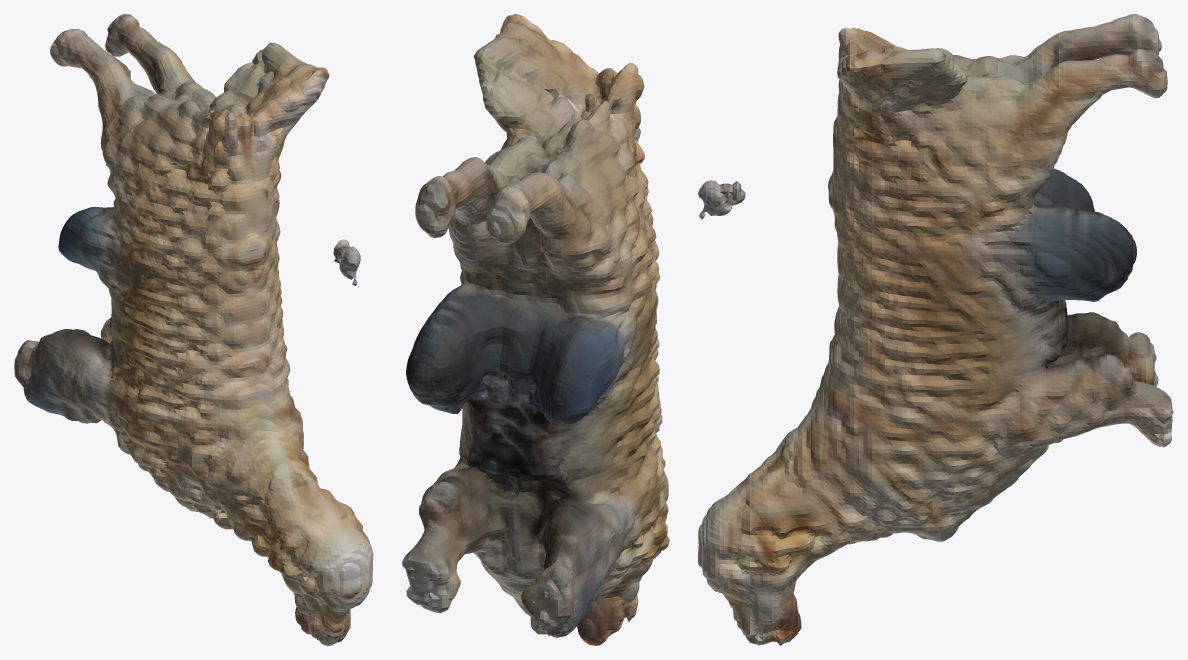
3 renders of one model, left to right at view 1: azimuth 30°, elevation 25°; view 2: azimuth 150°, elevation 25°; view 3: azimuth 270°, elevation 25°, orthographic. The views are drawn at different scales.
Parts seen in each view (by area): view 1: world; view 2: world; view 3: world.
Part boxes in pixels (x1=…): world: x1=14, y1=14, x2=373, y2=645; world: x1=402, y1=14, x2=669, y2=645; world: x1=698, y1=14, x2=1173, y2=645.
Bounding box in the file's own units: 0.3751 × 1.05 × 0.7458.
